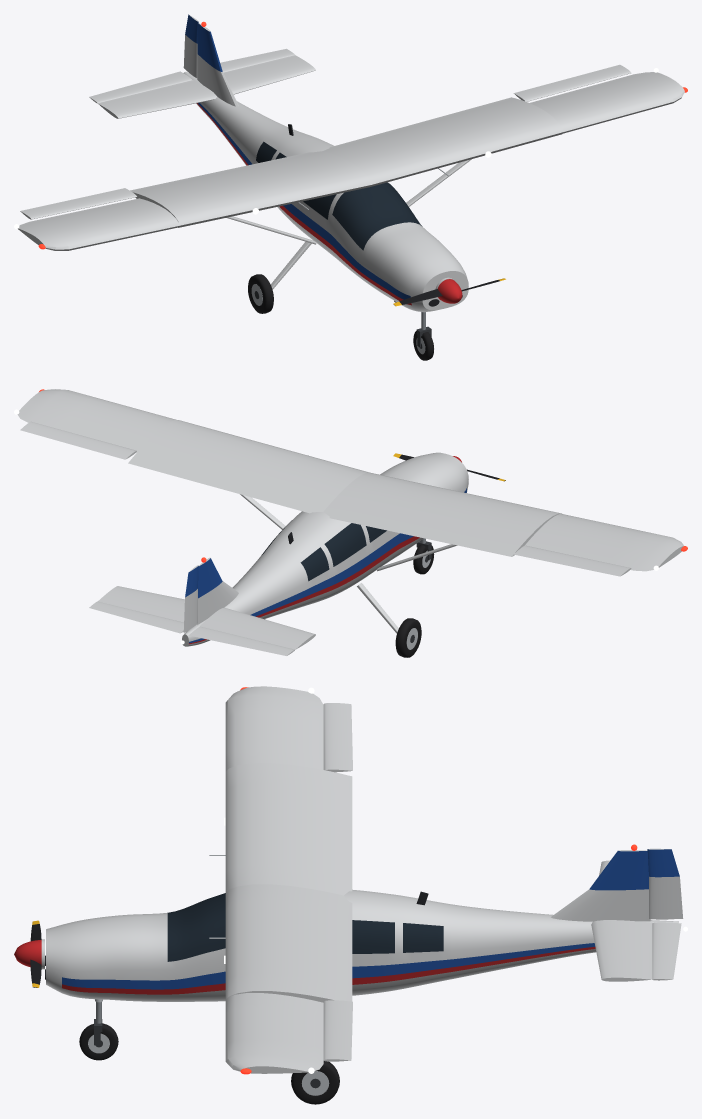
File: light-plane.glb
The picture shows the model from 3 angles, top to bottom: view 1: azimuth 30°, elevation 25°; view 2: azimuth 150°, elevation 25°; view 3: azimuth 270°, elevation 25°; orthographic projection. The views are drawn at different scales.
Visible parts, largest first — view 1: Light_Plane, Elevator, Aileron_L, Aileron_R, Propeller, Wheel_R, Rudder; view 2: Light_Plane, Elevator, Aileron_L, Aileron_R, Wheel_R, Rudder; view 3: Light_Plane, Rudder, Aileron_R, Aileron_L, Elevator, Wheel_L, Propeller, Wheel_Nose.
Part boxes in pixels (bbox=[...]): Light_Plane: bbox=[14, 21, 687, 311]; Elevator: bbox=[89, 48, 294, 103]; Aileron_L: bbox=[513, 64, 631, 101]; Aileron_R: bbox=[20, 188, 136, 219]; Propeller: bbox=[393, 277, 505, 306]; Wheel_R: bbox=[248, 274, 273, 313]; Rudder: bbox=[183, 14, 198, 78]; Light_Plane: bbox=[14, 389, 687, 649]; Elevator: bbox=[89, 601, 294, 655]; Aileron_L: bbox=[20, 421, 136, 459]; Aileron_R: bbox=[514, 545, 631, 576]; Wheel_R: bbox=[395, 618, 421, 657]; Rudder: bbox=[183, 565, 198, 632]; Light_Plane: bbox=[45, 686, 687, 1074]; Rudder: bbox=[647, 848, 683, 919]; Aileron_R: bbox=[323, 703, 352, 772]; Aileron_L: bbox=[323, 1000, 352, 1061]; Elevator: bbox=[652, 919, 681, 980]; Wheel_L: bbox=[291, 1061, 339, 1104]; Propeller: bbox=[14, 920, 44, 987]; Wheel_Nose: bbox=[79, 1023, 118, 1060].
Size of the model in its own units: 11.14 by 2.9 by 8.25.
